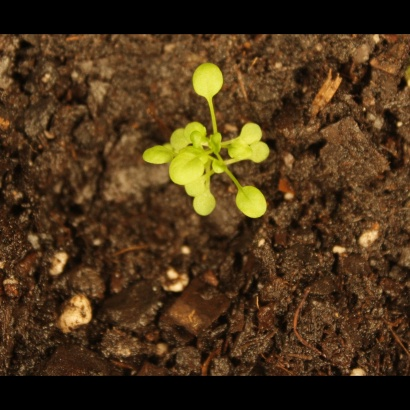leaf: (230, 180, 275, 225), (192, 58, 225, 101), (170, 150, 205, 189), (136, 141, 176, 170), (190, 190, 221, 225), (239, 121, 266, 146), (250, 140, 275, 166), (187, 128, 210, 151)
